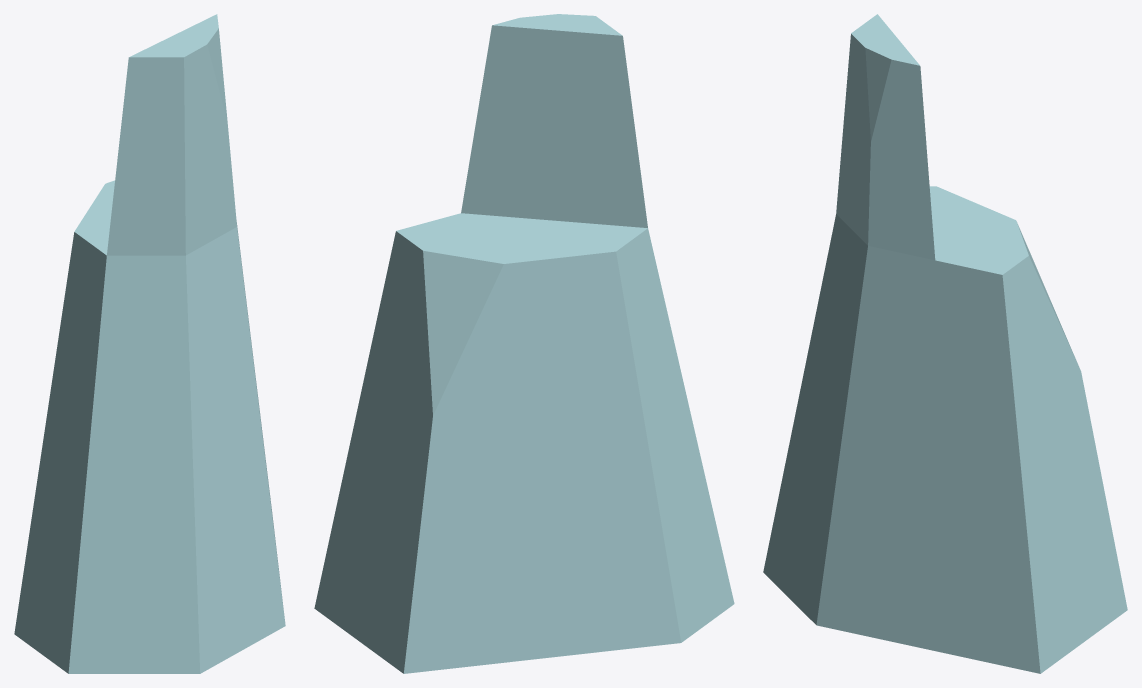
Rendered from stone_tallD.glb.
The picture shows the model from 3 angles, left to right: view 1: azimuth 30°, elevation 25°; view 2: azimuth 150°, elevation 25°; view 3: azimuth 270°, elevation 25°; orthographic projection. The views are drawn at different scales.
Visible parts, largest first — view 1: stone_tallD; view 2: stone_tallD; view 3: stone_tallD.
Boxes of the visible parts, box(x1,y1,x2,y2) form: stone_tallD: box(14, 14, 285, 673); stone_tallD: box(314, 14, 734, 673); stone_tallD: box(763, 14, 1127, 673).
Bounding box in the file's own units: 0.4428 × 0.7721 × 0.4615.
